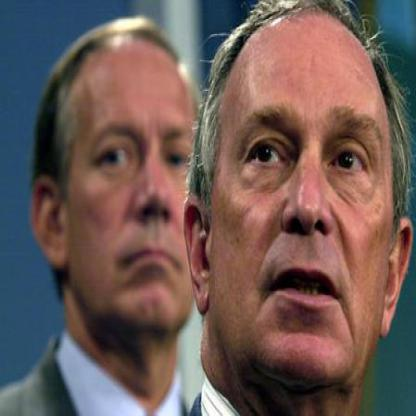face: (207, 1, 399, 397), (60, 19, 222, 348)
